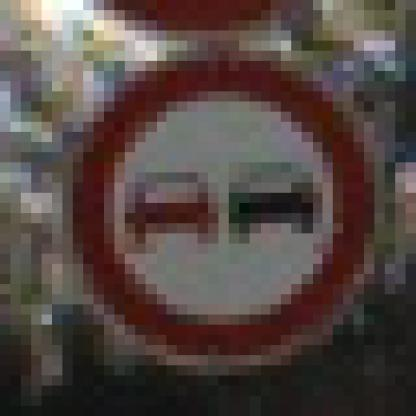No Overtaking: (53, 52, 365, 366)
